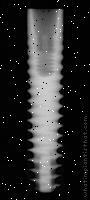DENTSPLY: (26, 9, 64, 194)
